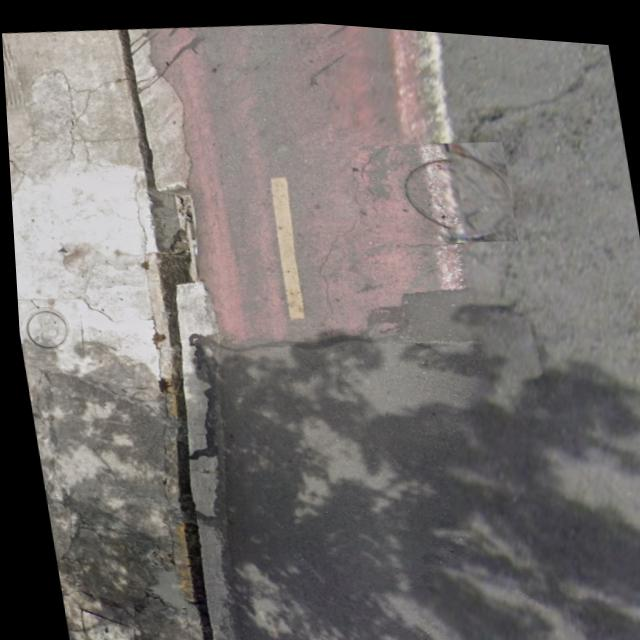Bueiro: (346, 123, 516, 248)
